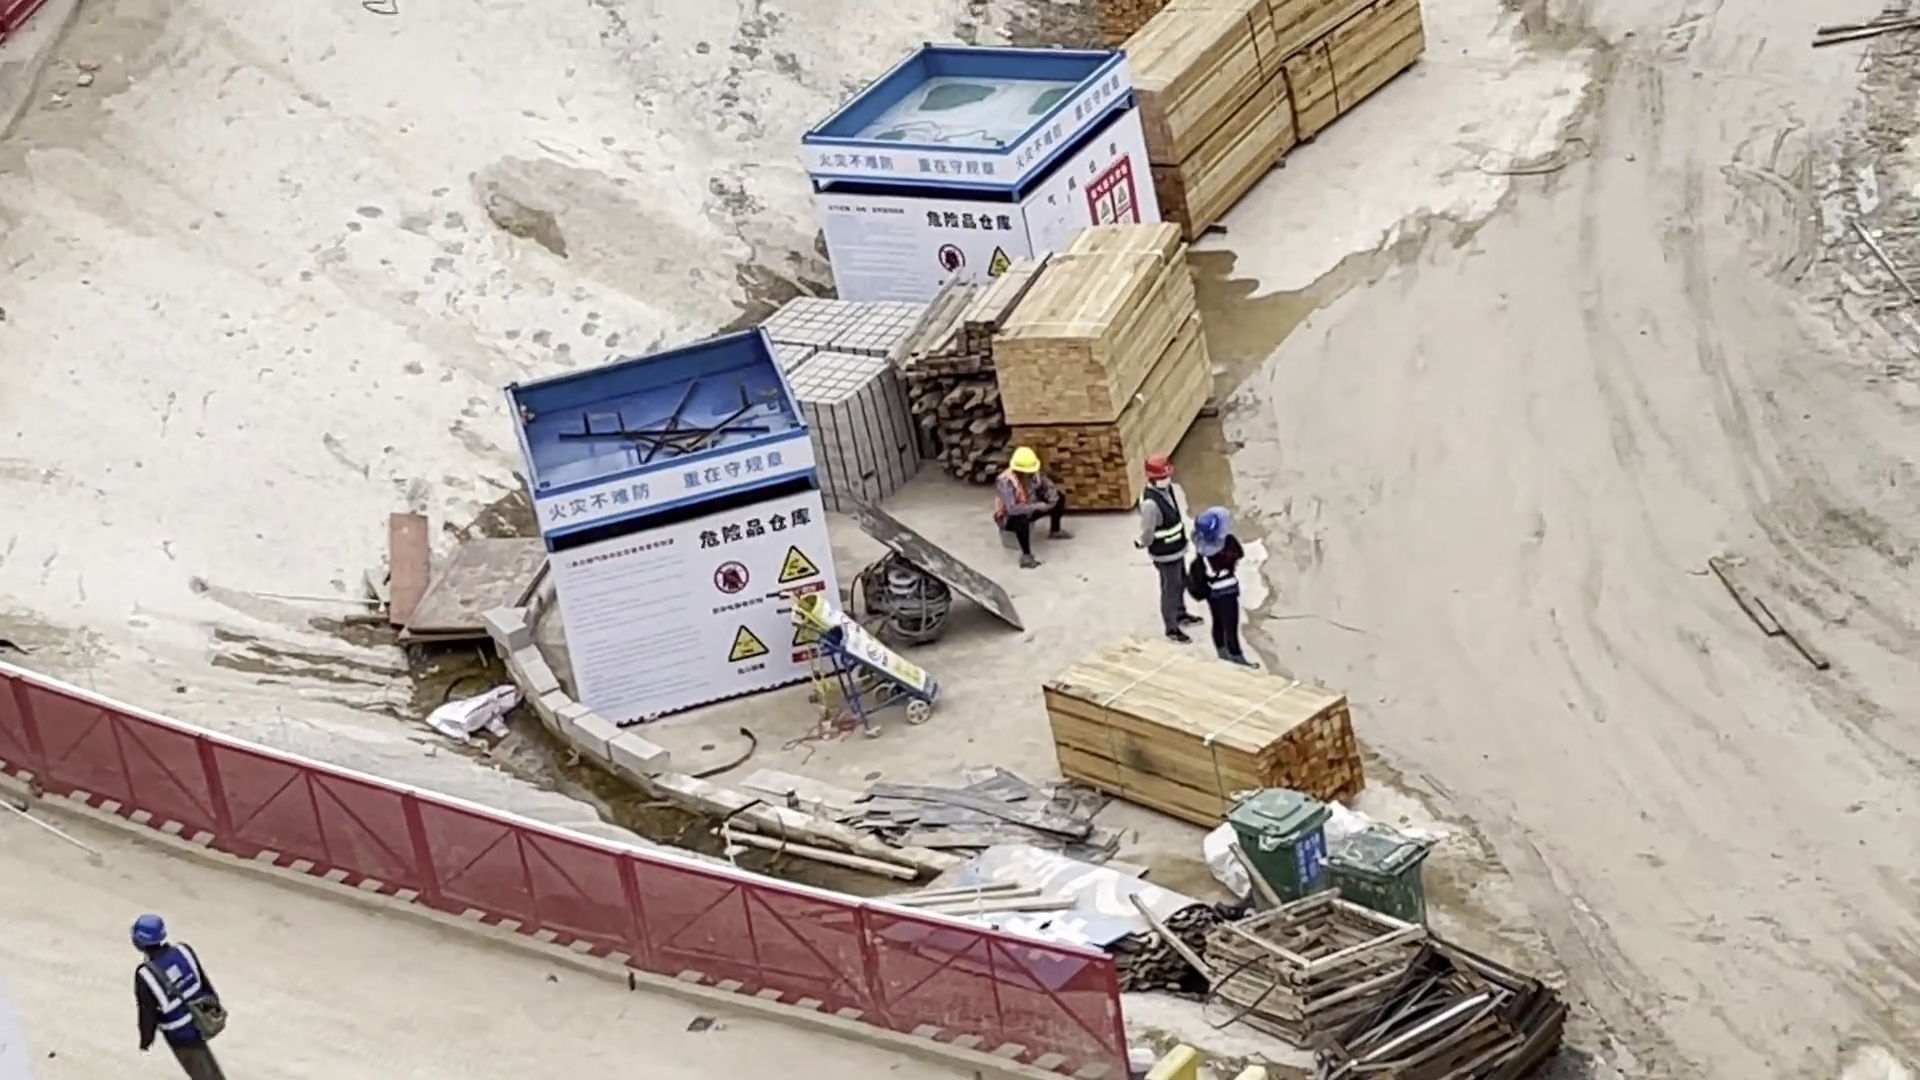fence: (1, 662, 1122, 1080)
helmet: (1195, 503, 1238, 543), (120, 905, 166, 942), (1140, 449, 1180, 487), (1007, 440, 1049, 471)
person: (95, 926, 258, 1070), (1182, 495, 1264, 649), (1134, 450, 1193, 639), (991, 437, 1068, 576)
slogan: (541, 439, 801, 523), (1014, 75, 1126, 169), (815, 139, 1002, 183)
vest: (130, 958, 219, 1022), (1141, 491, 1184, 558), (1197, 545, 1235, 596), (997, 464, 1026, 510)
wood: (1123, 1, 1433, 216), (989, 218, 1203, 512), (1036, 646, 1357, 825), (911, 264, 1035, 492)
